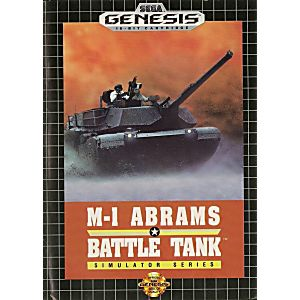Battle Tank: (64, 99, 222, 182)
